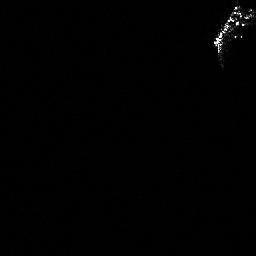ship: (210, 1, 256, 69)
